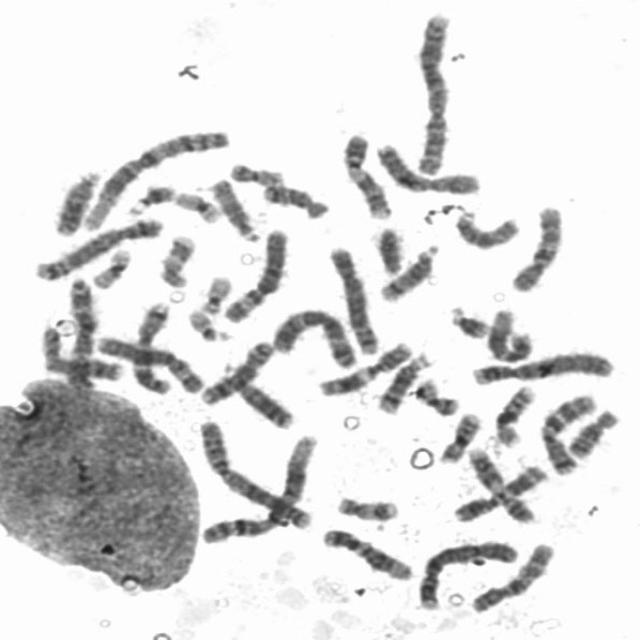A1: (76, 123, 233, 233), (197, 423, 321, 545)
A2: (193, 413, 318, 534), (410, 3, 457, 178)
A3: (268, 303, 362, 371), (62, 273, 99, 393)
B4: (413, 534, 522, 611), (466, 347, 618, 387)
B5: (28, 212, 165, 282), (323, 241, 383, 357)
C10: (468, 538, 558, 614), (506, 199, 568, 295)
C11: (451, 460, 552, 523), (314, 337, 416, 398)
C12: (315, 522, 415, 582), (482, 304, 537, 364)
C6: (91, 330, 208, 396), (218, 222, 292, 324)
C7: (534, 387, 600, 476), (128, 296, 176, 396)
C8: (195, 335, 277, 407), (36, 323, 125, 383)
C9: (461, 443, 535, 526), (336, 129, 396, 221)
D13: (218, 362, 298, 431), (49, 165, 104, 238)
D14: (375, 239, 441, 303), (372, 348, 434, 415)
D15: (205, 173, 262, 244), (449, 205, 524, 251)
E16: (490, 380, 540, 448), (432, 407, 484, 464)
E17: (155, 230, 199, 290), (333, 492, 402, 522)
E18: (564, 404, 625, 460), (257, 178, 333, 220)
F19: (87, 243, 135, 290), (170, 186, 224, 225)
F20: (410, 374, 461, 418), (225, 157, 287, 187)
G21: (123, 178, 180, 216), (444, 301, 495, 341)
G22: (184, 304, 237, 342), (195, 270, 234, 315)
X: (369, 139, 482, 196)
Y: (372, 223, 408, 277)
